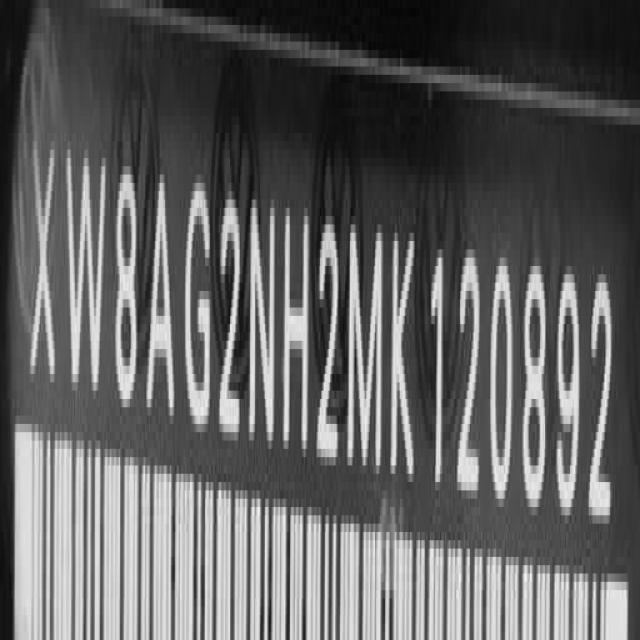0: (491, 258, 517, 515)
1: (428, 236, 448, 502)
2: (217, 192, 244, 452), (592, 270, 618, 531), (318, 215, 342, 474), (458, 249, 482, 506)
8: (522, 259, 550, 516), (116, 160, 140, 412)
9: (554, 266, 580, 524)
A: (147, 173, 177, 429)
G: (184, 177, 214, 440)
H: (285, 201, 312, 466)
K: (393, 218, 418, 487)
M: (348, 217, 382, 478)
N: (251, 194, 279, 457)
W: (67, 147, 107, 406)
X: (27, 142, 56, 396)
